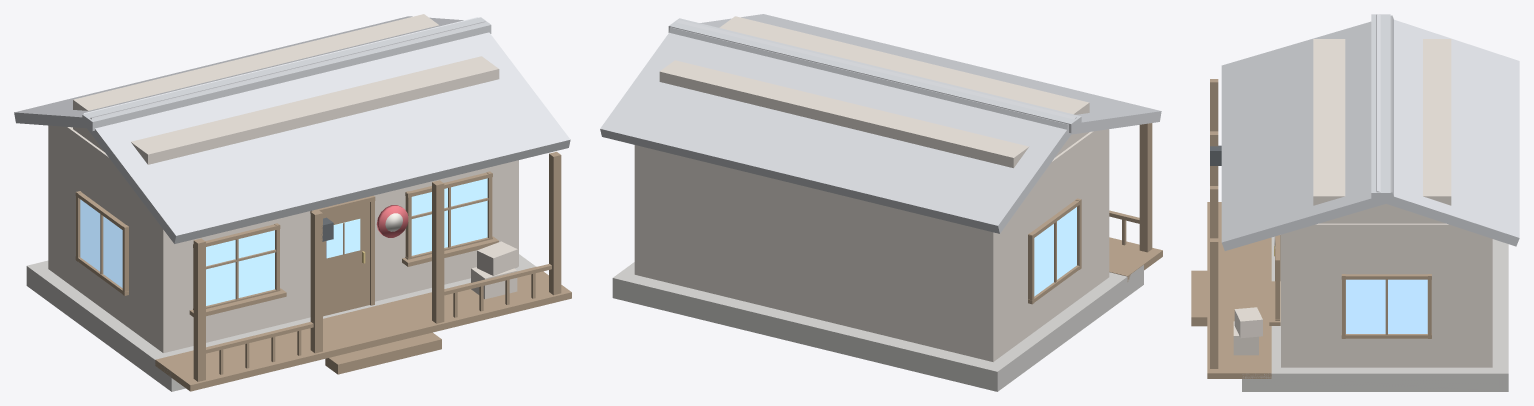
Rendered from Building_FisherHut_Hansu.fbx.
3 renders of one model, left to right at view 1: azimuth 30°, elevation 25°; view 2: azimuth 150°, elevation 25°; view 3: azimuth 270°, elevation 25°, orthographic. The views are drawn at different scales.
Parts seen in each view (by area): view 1: Building_FisherHut_Hansu; view 2: Building_FisherHut_Hansu; view 3: Building_FisherHut_Hansu.
Part boxes in pixels (<box>): Building_FisherHut_Hansu: <box>14,14,571,391</box>; Building_FisherHut_Hansu: <box>600,14,1162,391</box>; Building_FisherHut_Hansu: <box>1191,14,1519,391</box>.
Size of the model in its own units: 920 by 489 by 714.
